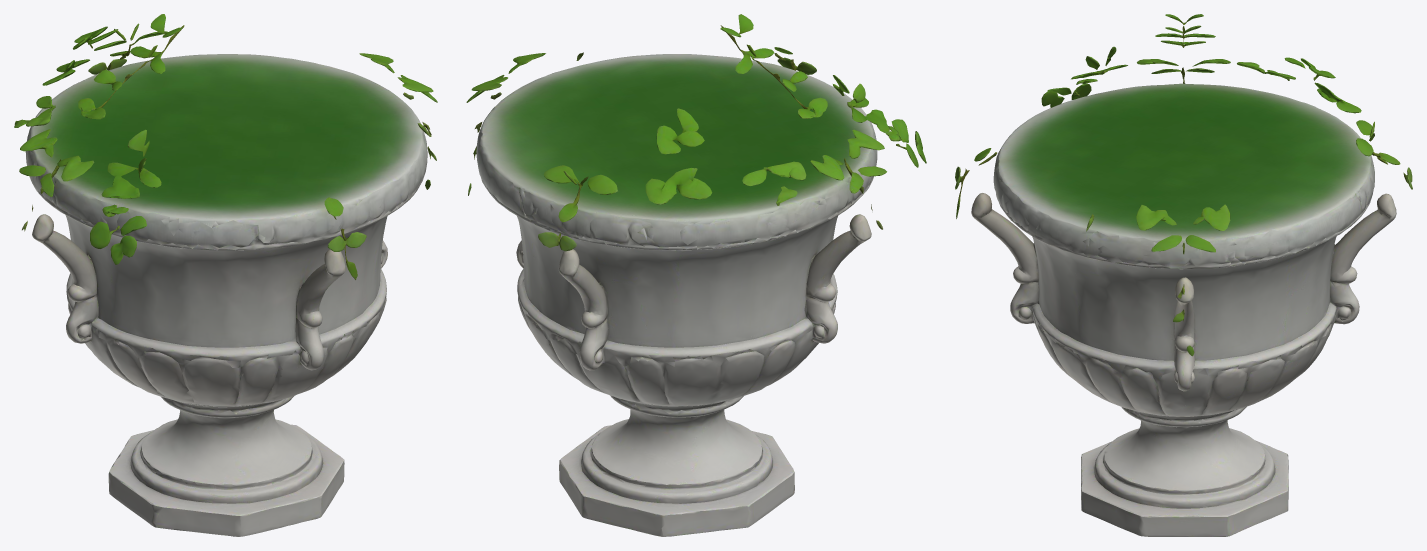
The model's file is planter_urn.glb.
The picture shows the model from 3 angles, left to right: view 1: azimuth 30°, elevation 25°; view 2: azimuth 150°, elevation 25°; view 3: azimuth 270°, elevation 25°; orthographic projection. The views are drawn at different scales.
Parts seen in each view (by area): view 1: Mesh; view 2: Mesh; view 3: Mesh.
Part boxes in pixels (<box>): Mesh: <box>14,14,437,536</box>; Mesh: <box>466,14,926,536</box>; Mesh: <box>955,14,1412,536</box>.
Size of the model in its own units: 1.67 by 1.87 by 1.71.
1 material, 1 textured.
